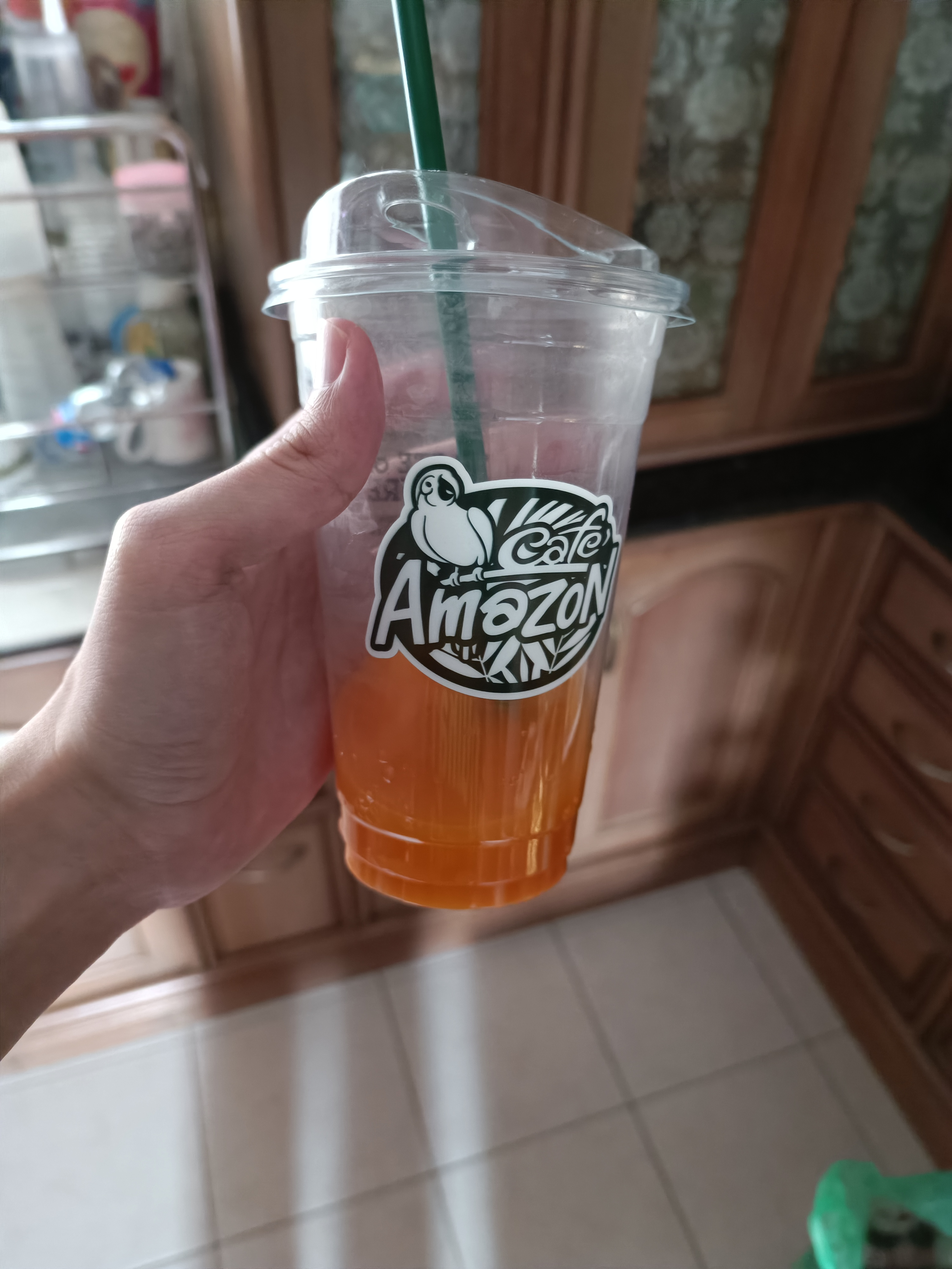plastic: (249, 0, 706, 934)
